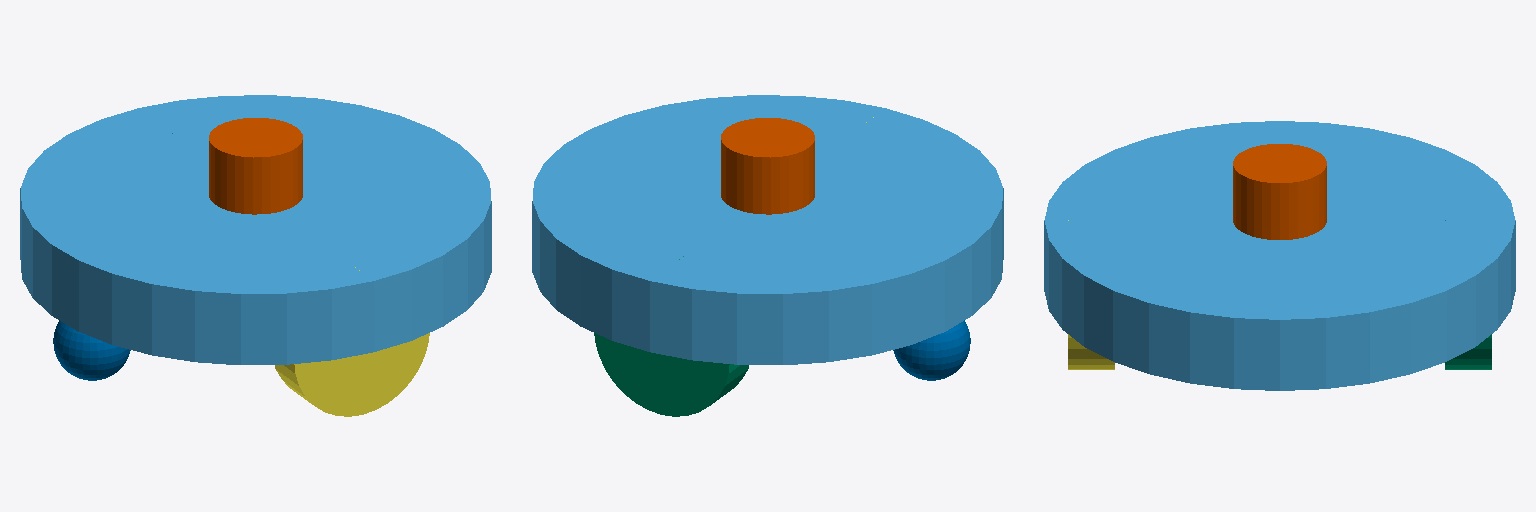
robot.urdf — simple_diffbot:
<?xml version="1.0"?>
<robot name="simple_diffbot">
  <link name="base_footprint" />
  <link name="base_link">
    <visual>
      <geometry>
        <cylinder radius="0.15" length="0.05" />
      </geometry>
    </visual>
    <collision>
      <geometry>
        <cylinder radius="0.15" length="0.05" />
      </geometry>
    </collision>
  </link>
  <link name="left_wheel">
    <visual>
      <origin rpy="1.57 0 0" />
      <geometry>
        <cylinder radius="0.05" length="0.03" />
      </geometry>
    </visual>
    <collision>
      <origin rpy="1.57 0 0" />
      <geometry>
        <cylinder radius="0.05" length="0.03" />
      </geometry>
    </collision>
  </link>
  <link name="right_wheel">
    <visual>
      <origin rpy="1.57 0 0" />
      <geometry>
        <cylinder radius="0.05" length="0.03" />
      </geometry>
    </visual>
    <collision>
      <origin rpy="1.57 0 0" />
      <geometry>
        <cylinder radius="0.05" length="0.03" />
      </geometry>
    </collision>
  </link>
  <link name="caster">
    <visual>
      <geometry>
        <sphere radius="0.025" />
      </geometry>
    </visual>
    <collision>
      <geometry>
        <sphere radius="0.025" />
      </geometry>
    </collision>
  </link>
  <link name="lidar">
    <visual>
      <geometry>
        <cylinder radius="0.03" length="0.04" />
      </geometry>
    </visual>
    <collision>
      <geometry>
        <cylinder radius="0.03" length="0.04" />
      </geometry>
    </collision>
  </link>
  <joint name="base_footprint_to_base_link" type="fixed">
    <parent link="base_footprint" />
    <child link="base_link" />
    <origin xyz="0 0 0.05" />
  </joint>
  <joint name="base_link_to_left_wheel" type="continuous">
    <parent link="base_link" />
    <child link="left_wheel" />
    <origin xyz="0 0.12 -0.025" />
    <axis xyz="0 1 0" />
  </joint>
  <joint name="base_link_to_right_wheel" type="continuous">
    <parent link="base_link" />
    <child link="right_wheel" />
    <origin xyz="0 -0.12 -0.025" />
    <axis xyz="0 1 0" />
  </joint>
  <joint name="base_link_to_caster" type="fixed">
    <parent link="base_link" />
    <child link="caster" />
    <origin xyz="-0.12 0 -0.05" />
  </joint>
  <joint name="base_link_to_lidar" type="fixed">
    <parent link="base_link" />
    <child link="lidar" />
    <origin xyz="0 0 0.045" />
  </joint>
</robot>

--- Facts derived from the render (not from the file) ---
3 views of the same robot in one strip: view 1: azimuth 30°, elevation 25°; view 2: azimuth 150°, elevation 25°; view 3: azimuth 270°, elevation 25° (orthographic).
Robot: simple_diffbot — 6 links, 5 joints (2 continuous, 3 fixed); root link base_footprint; default pose: all joints at 0.
Links seen in each view (by area): view 1: base_link, lidar, right_wheel, caster; view 2: base_link, lidar, left_wheel, caster; view 3: base_link, lidar, left_wheel, right_wheel.
Boxes of the visible links, x1=… form: base_link: x1=20, y1=95, x2=491, y2=364; lidar: x1=209, y1=118, x2=302, y2=214; right_wheel: x1=275, y1=267, x2=429, y2=416; caster: x1=53, y1=320, x2=130, y2=380; base_link: x1=532, y1=95, x2=1003, y2=364; lidar: x1=721, y1=118, x2=814, y2=214; left_wheel: x1=594, y1=256, x2=748, y2=416; caster: x1=893, y1=320, x2=970, y2=380; base_link: x1=1044, y1=121, x2=1515, y2=390; lidar: x1=1233, y1=144, x2=1326, y2=239; left_wheel: x1=1445, y1=220, x2=1491, y2=369; right_wheel: x1=1068, y1=220, x2=1114, y2=369.
Bounding box of the posed robot: 0.3 × 0.3 × 0.14 m (x, y, z).
Geometry: primitives only (box / cylinder / sphere), no mesh files.